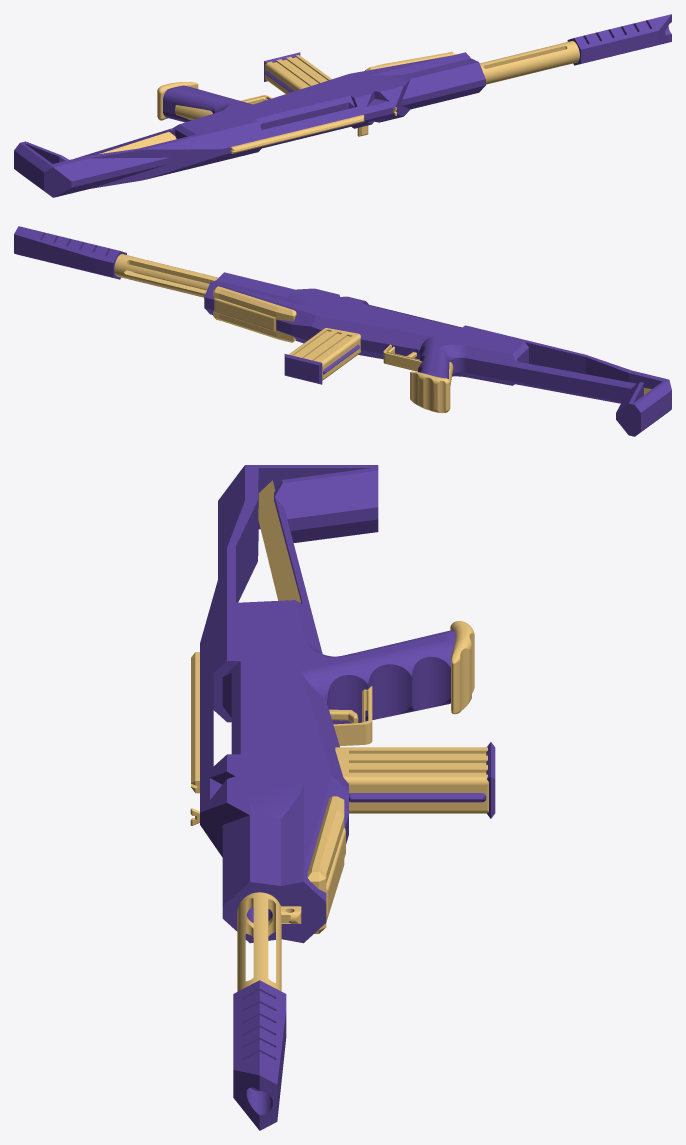
Rendered from Rifle_v13.fbx.
The picture shows the model from 3 angles, top to bottom: view 1: azimuth 30°, elevation 25°; view 2: azimuth 150°, elevation 25°; view 3: azimuth 270°, elevation 25°; orthographic projection. The views are drawn at different scales.
Visible parts, largest first — view 1: Main, Suppresor, Barrel, Mag, Back Sight, Back part, Grip plate, Handle back, front grip; view 2: Main, Suppresor, front grip, Barrel, Mag, Grip plate, Mag Plate, Trigger Gaurd; view 3: Main, Mag, Suppresor, Barrel, front grip, Back part, Grip plate, Mag Part 2, Back Sight, Trigger Gaurd.
Part boxes in pixels (bbox=[...]): Main: bbox=[14, 52, 485, 197]; Suppresor: bbox=[567, 14, 671, 65]; Barrel: bbox=[479, 41, 579, 84]; Mag: bbox=[265, 55, 331, 93]; Back Sight: bbox=[230, 115, 364, 153]; Back part: bbox=[100, 132, 176, 153]; Grip plate: bbox=[157, 82, 198, 120]; Handle back: bbox=[175, 105, 212, 120]; front grip: bbox=[365, 51, 455, 70]; Main: bbox=[204, 272, 671, 436]; Suppresor: bbox=[14, 226, 126, 279]; front grip: bbox=[213, 286, 296, 342]; Barrel: bbox=[114, 254, 218, 297]; Mag: bbox=[289, 328, 360, 380]; Grip plate: bbox=[410, 371, 450, 413]; Mag Plate: bbox=[284, 354, 322, 384]; Trigger Gaurd: bbox=[383, 344, 421, 371]; Main: bbox=[200, 465, 455, 943]; Mag: bbox=[335, 747, 488, 813]; Suppresor: bbox=[233, 980, 286, 1130]; Barrel: bbox=[237, 892, 281, 991]; front grip: bbox=[307, 796, 345, 933]; Back part: bbox=[258, 480, 300, 602]; Grip plate: bbox=[450, 621, 474, 714]; Mag Part 2: bbox=[349, 793, 486, 802]; Back Sight: bbox=[191, 652, 199, 793]; Trigger Gaurd: bbox=[333, 686, 372, 745].
Size of the model in its own units: 32.17 by 2.04 by 6.76.
